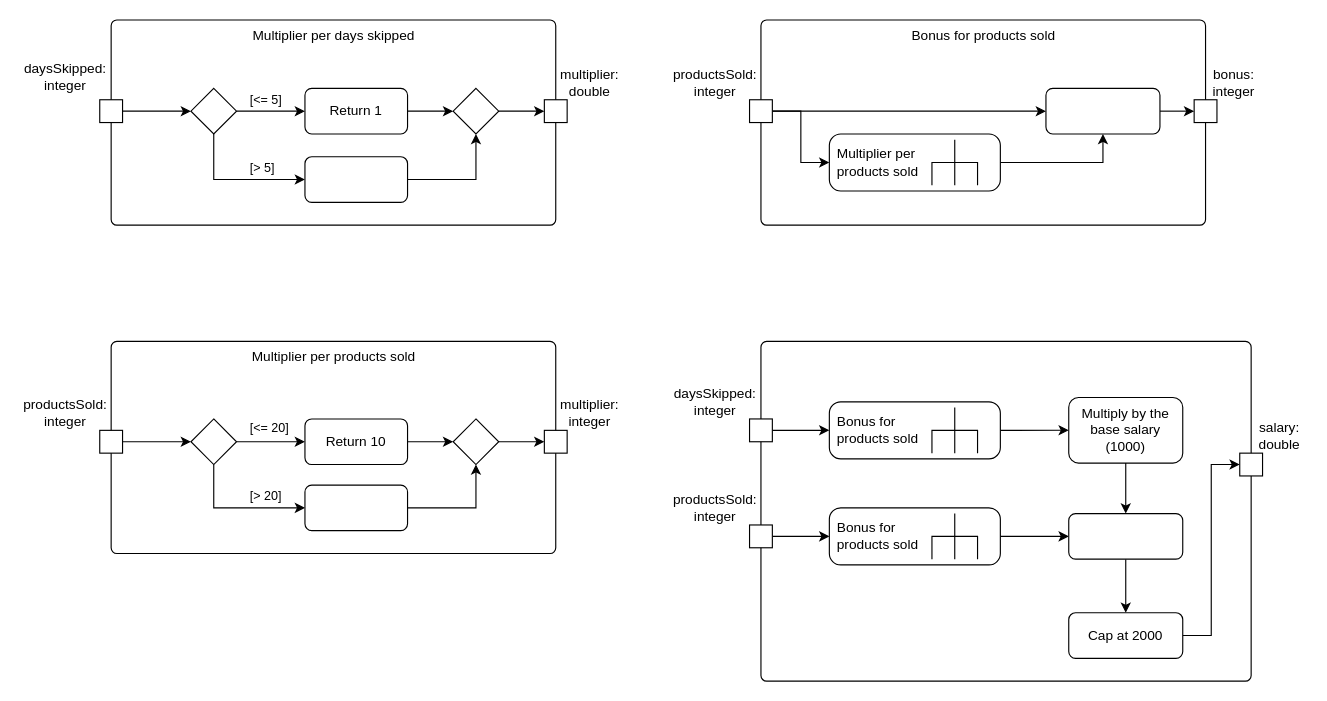
This 1327x701 diagram has some shape labels left out. The box of each missing label's shape, as (x1, y1, x2, y2) in pixels:
Calculate final salary: (760, 340, 1251, 681)
Multiply: (1045, 87, 1160, 134)
Return 0.85: (304, 156, 408, 202)
Return 13: (304, 484, 408, 531)
Sum: (1068, 512, 1183, 559)
